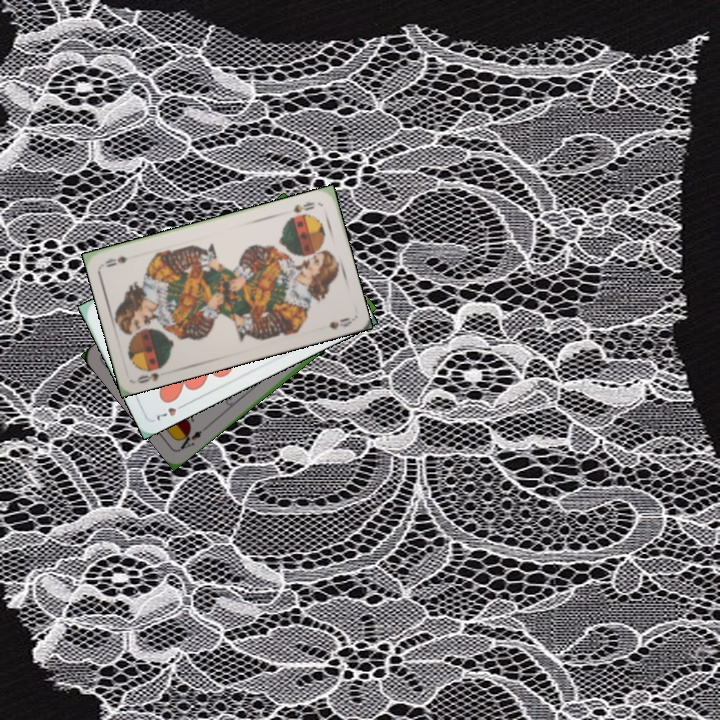EA: (174, 423, 210, 452)
H7: (152, 399, 189, 424)
SO: (289, 197, 317, 216), (133, 368, 162, 386)
